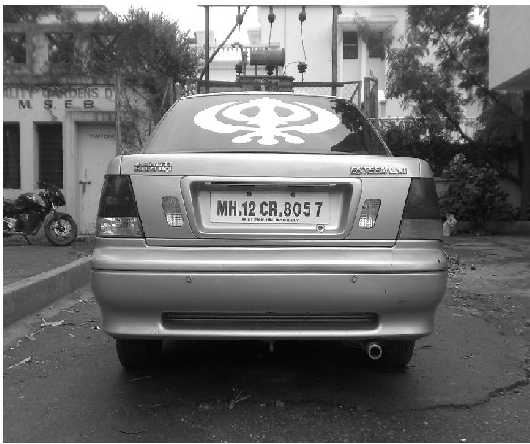number_plate: (208, 186, 334, 230)
